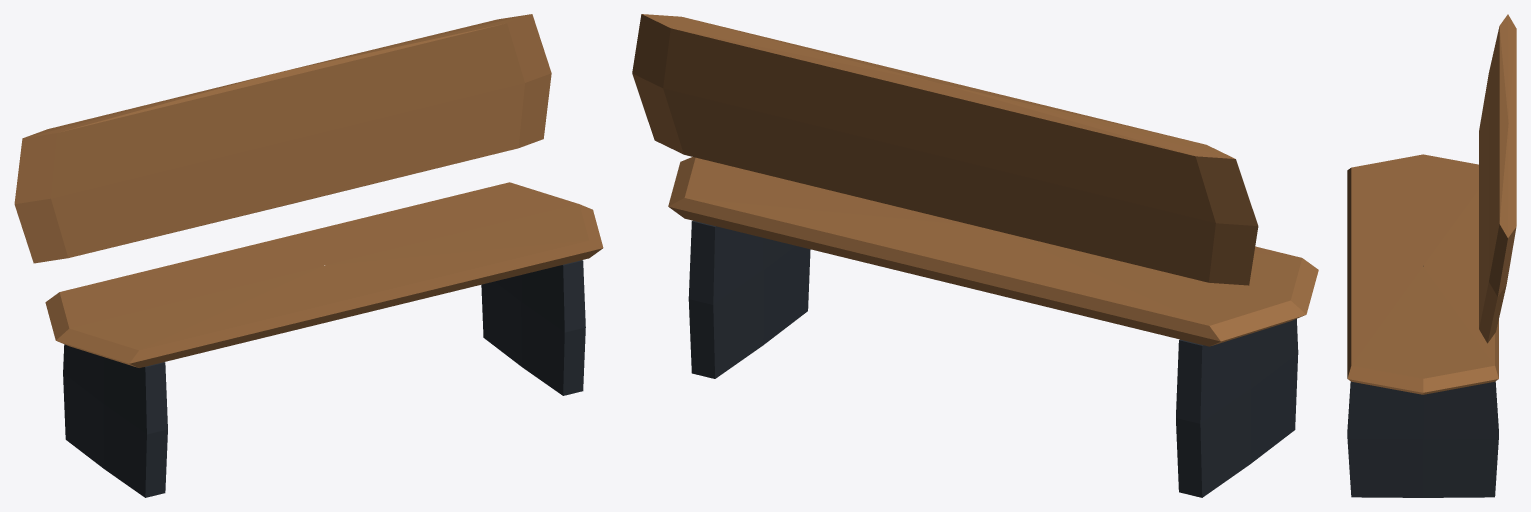
File: s-bench.glb
3 views of the same model, side by side, from view 1: azimuth 30°, elevation 25°; view 2: azimuth 150°, elevation 25°; view 3: azimuth 270°, elevation 25° (orthographic). The views are drawn at different scales.
Parts seen in each view (by area): view 1: p; view 2: p; view 3: p.
Part boxes in pixels (x1,y1,x2,y2): p: (14,14,603,497); p: (632,14,1318,497); p: (1347,14,1516,497).
Size of the model in its own units: 1.8 by 0.997 by 0.5439.
